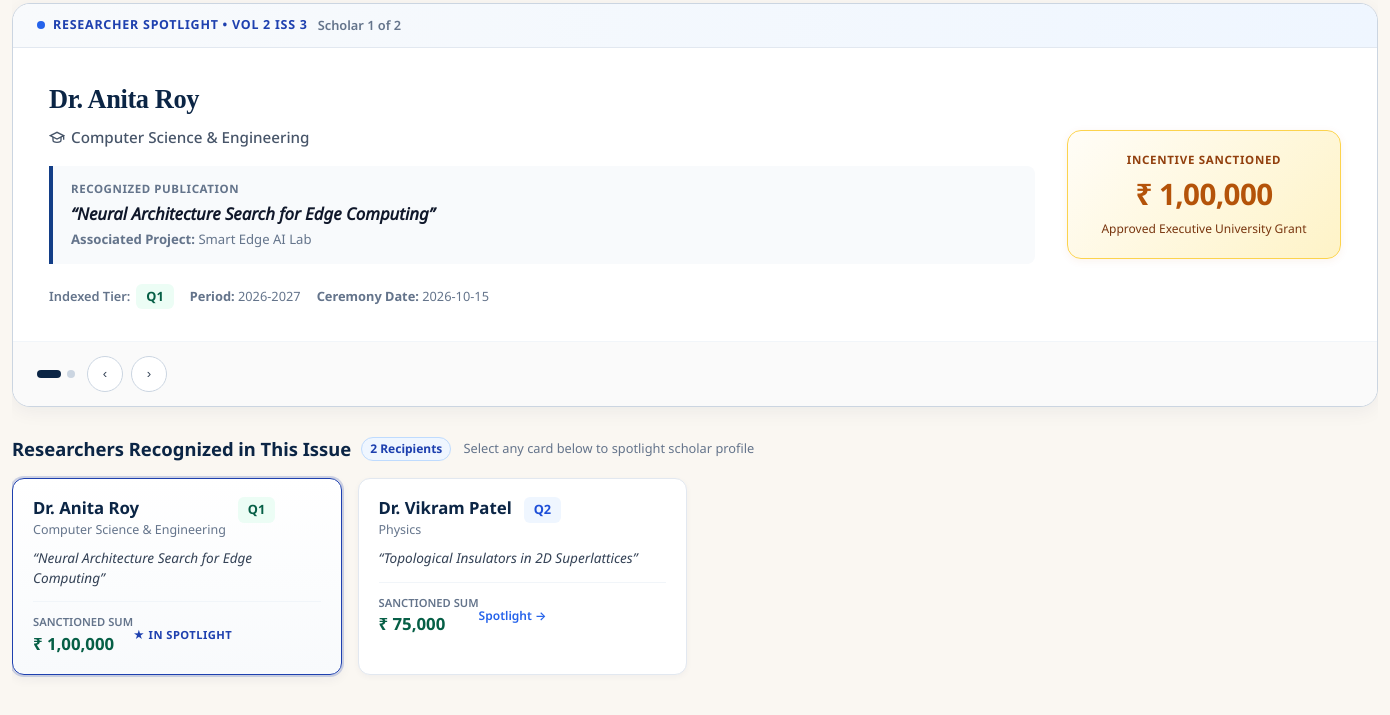
Test case: FelicitationShowcase Component Tests › 5. Rotates Spotlight carousel automatically every 7.5 seconds and supports manual next/prev navigation
(page scrolled)
Expected: the heading "Dr. Anita Roy" below "Researcher Spotlight • Vol" is shown, [49, 84, 199, 114]
Note: Manual navigation buttons
Click the button named "Next Researcher": (149, 374) [131, 356, 167, 392]
(page scrolled)
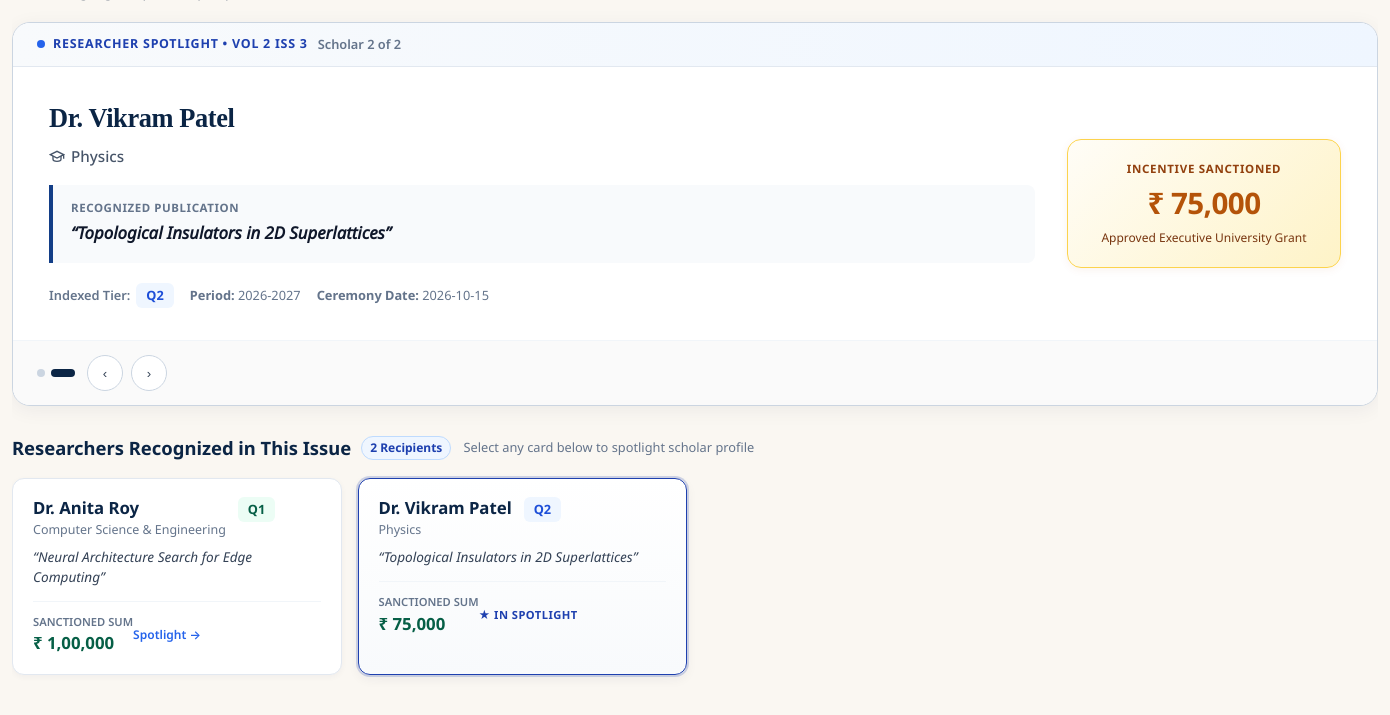
Expected: the heading "Dr. Vikram Patel" below "Researcher Spotlight • Vol" is shown, [49, 103, 234, 133]
Click the button named "Previous Researcher": (105, 373) [87, 355, 123, 391]
(page scrolled)
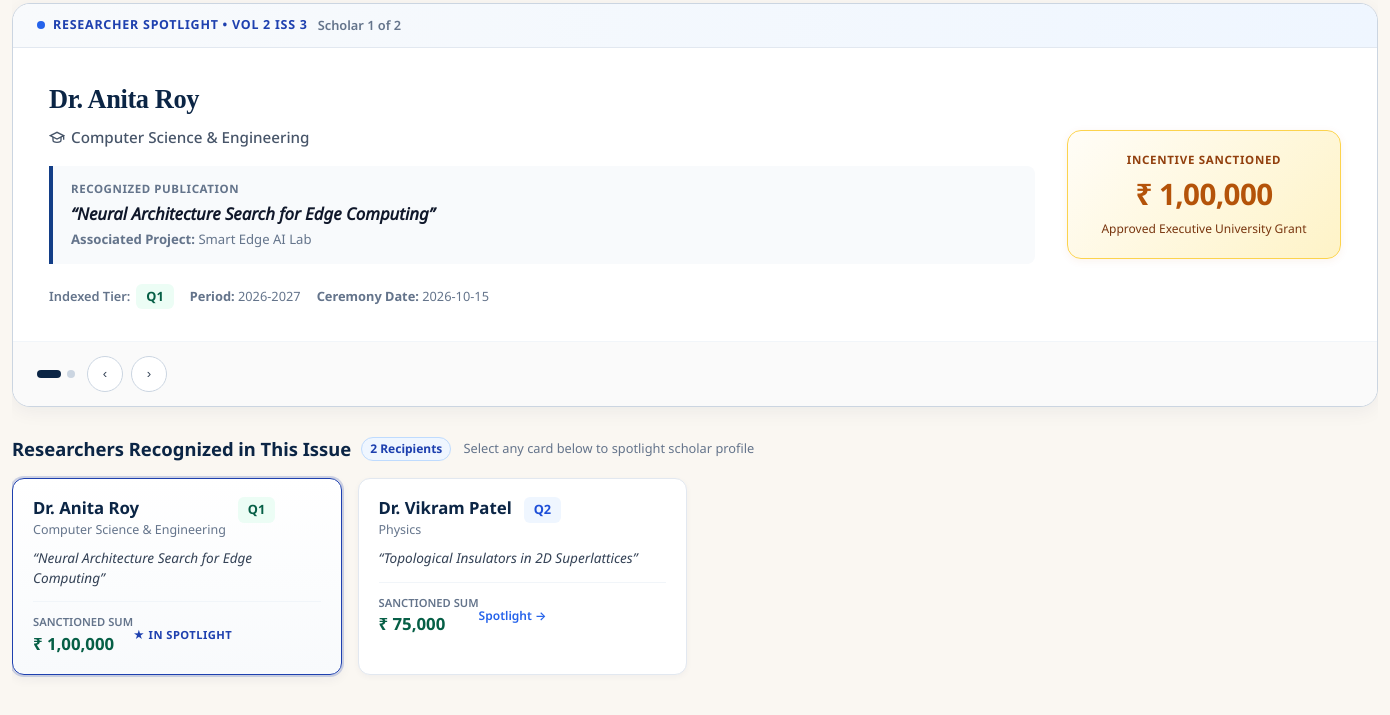
Expected: the heading "Dr. Anita Roy" below "Researcher Spotlight • Vol" is shown, [49, 84, 199, 114]
